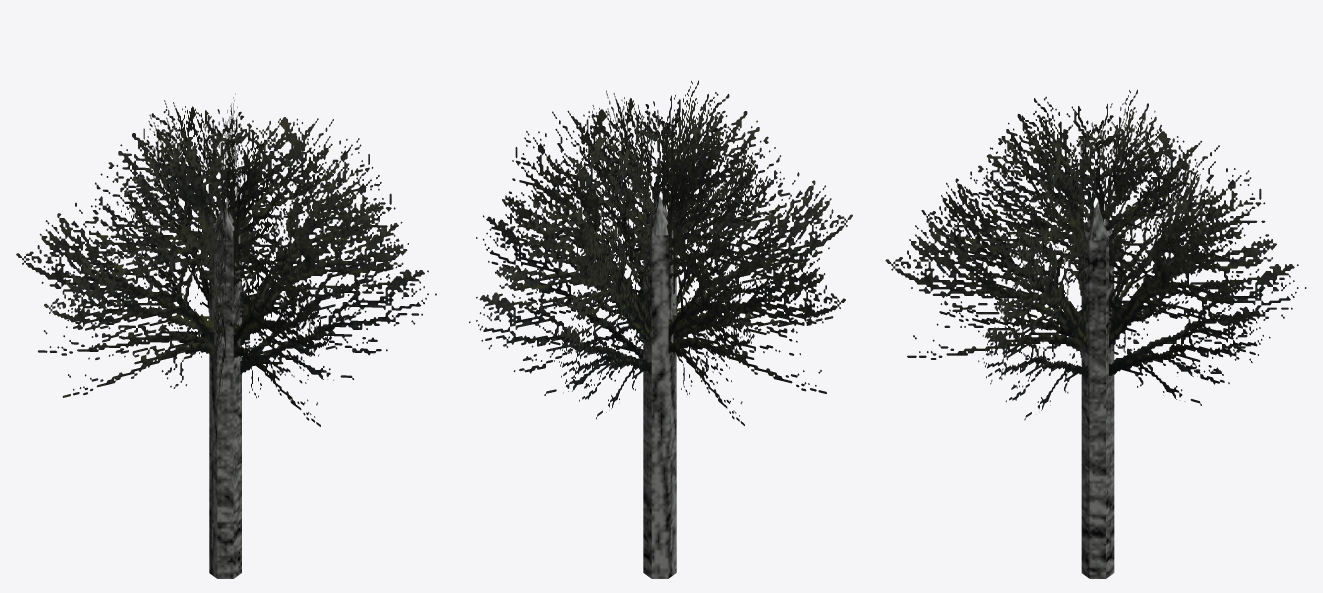
The model's file is tree.fbx.
The picture shows the model from 3 angles, left to right: view 1: azimuth 30°, elevation 25°; view 2: azimuth 150°, elevation 25°; view 3: azimuth 270°, elevation 25°; orthographic projection.
Parts seen in each view (by area): view 1: crown_tree, crown_tree.001, Cylinder; view 2: crown_tree, crown_tree.001, Cylinder; view 3: crown_tree.001, crown_tree, Cylinder.
Boxes of the visible parts, x1=… form: crown_tree: x1=44, y1=100, x2=408, y2=426; crown_tree.001: x1=16, y1=93, x2=436, y2=435; Cylinder: x1=209, y1=202, x2=241, y2=578; crown_tree: x1=476, y1=80, x2=845, y2=419; crown_tree.001: x1=469, y1=90, x2=852, y2=425; Cylinder: x1=643, y1=197, x2=676, y2=578; crown_tree.001: x1=921, y1=89, x2=1270, y2=420; crown_tree: x1=885, y1=110, x2=1306, y2=376; Cylinder: x1=1081, y1=202, x2=1114, y2=578.
Bounding box in the file's own units: 979 × 1192 × 979.
